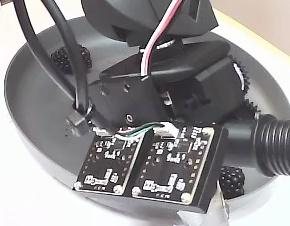berry: (219, 166, 244, 198), (51, 47, 71, 73), (79, 45, 91, 68)
